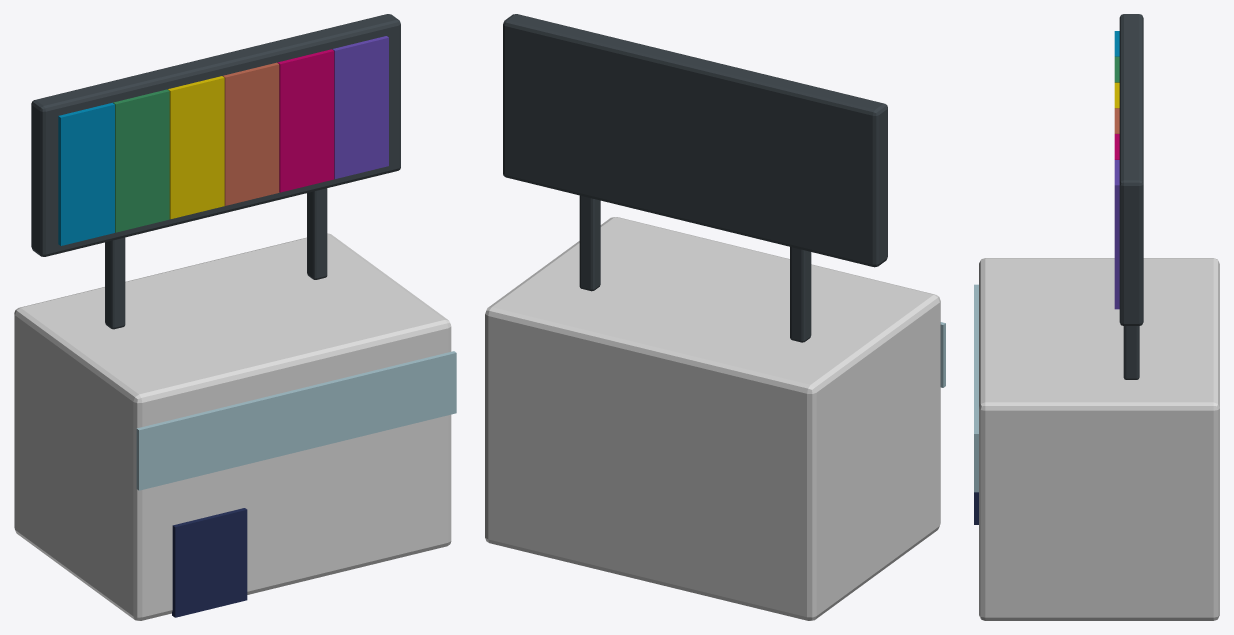
The picture shows the model from 3 angles, left to right: view 1: azimuth 30°, elevation 25°; view 2: azimuth 150°, elevation 25°; view 3: azimuth 270°, elevation 25°; orthographic projection. The views are drawn at different scales.
Visible parts, largest first — view 1: lm_10; view 2: lm_10; view 3: lm_10.
Part boxes in pixels (left/top/right/bottom): lm_10: left=14, top=14, right=456, bottom=620; lm_10: left=485, top=14, right=945, bottom=620; lm_10: left=974, top=14, right=1219, bottom=620.
Bounding box in the file's own units: 0.5 × 0.62 × 0.306.
